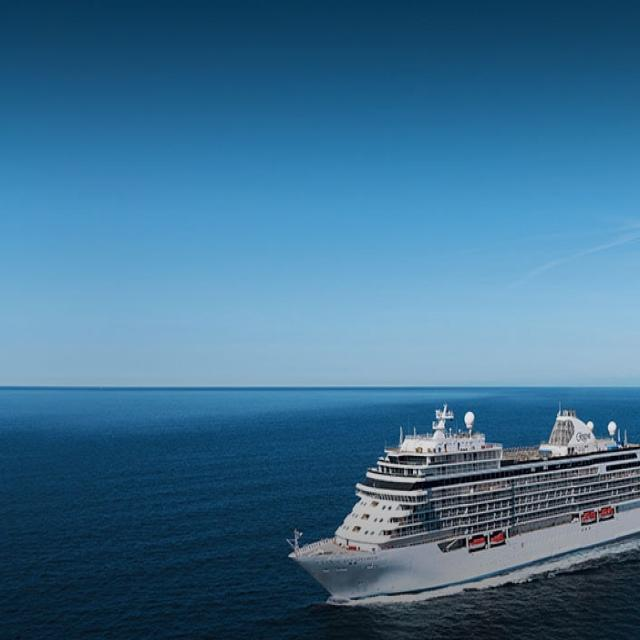passenger ship: (284, 402, 640, 606)
